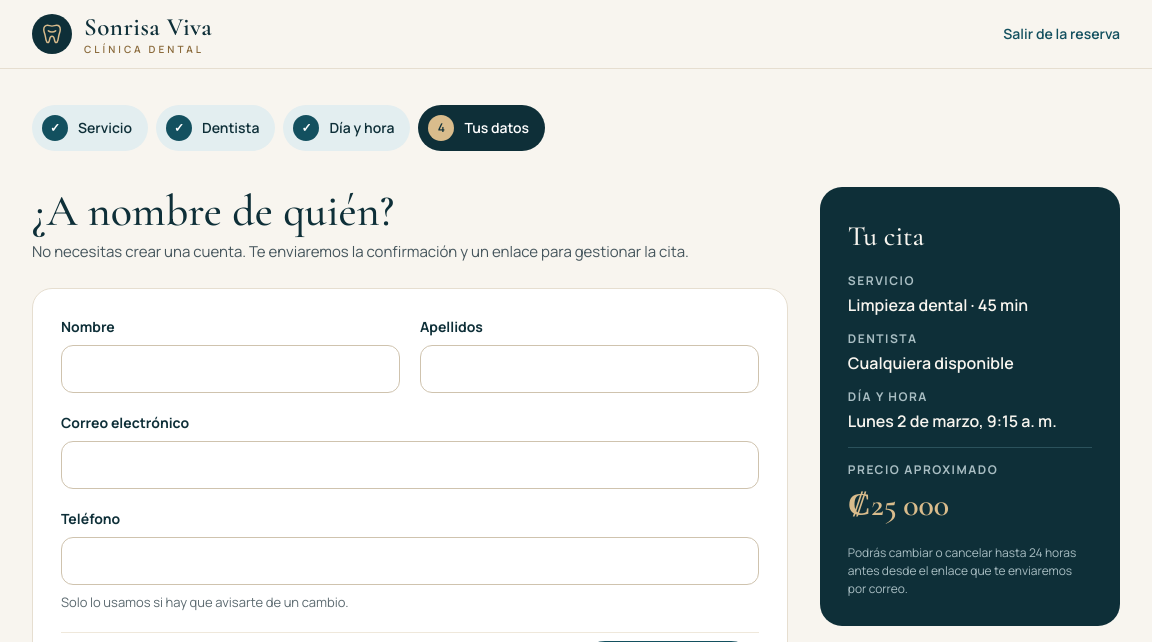
Test: Paso de datos y envío › valida correo y teléfono con mensajes en español
Type "carlos@" into the field labelled "Correo electrónico" at (410, 465), box [61,441,759,489]
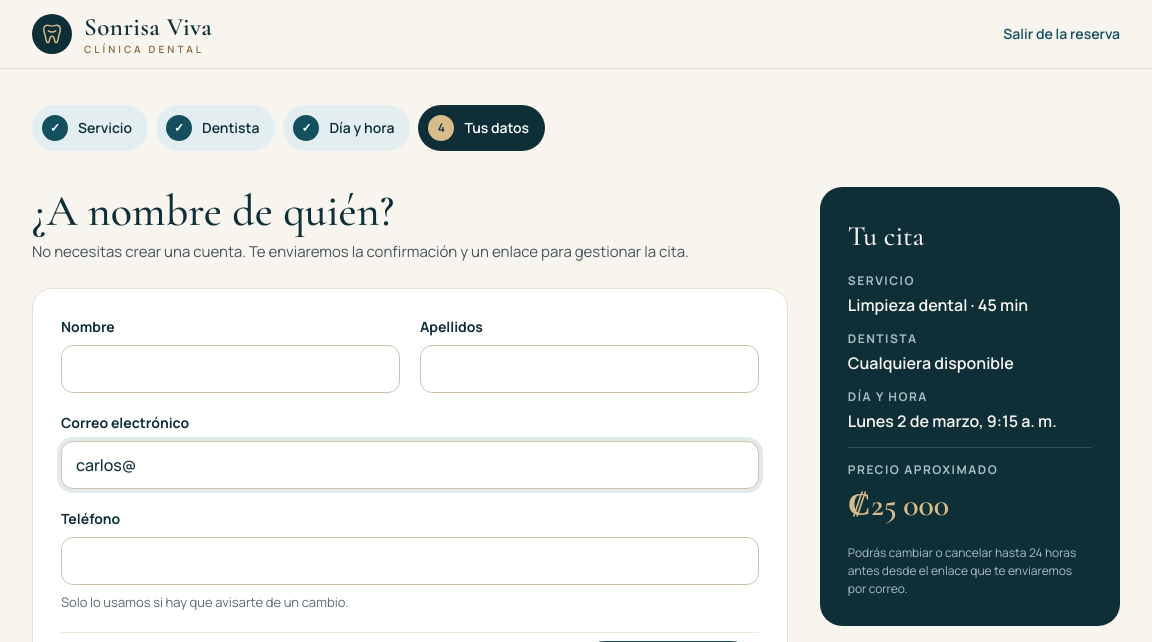
Type "abc" into the field labelled "Teléfono" at (410, 561), box [61,537,759,585]
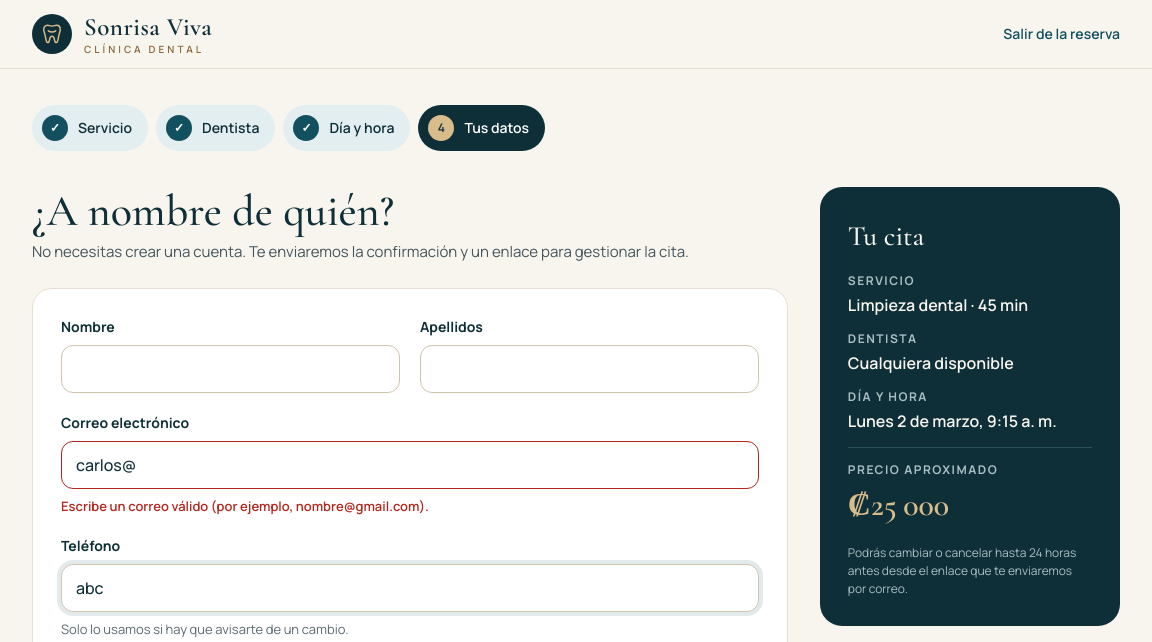
Press Tab
(page scrolled)
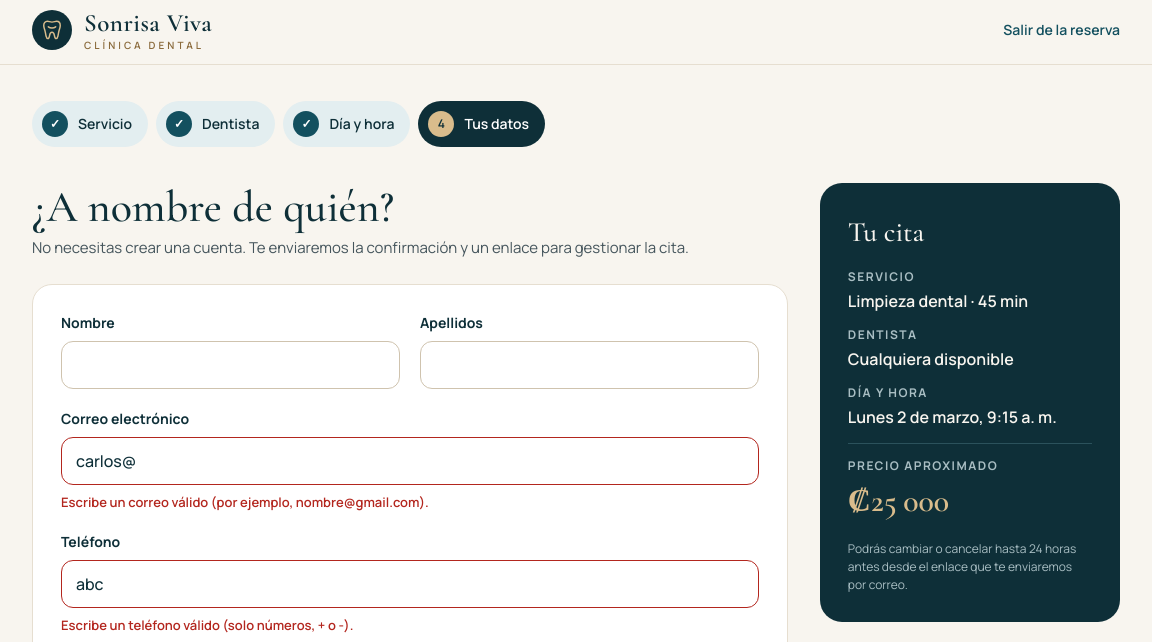
Expected: the text "Escribe un correo válido (por ejemplo, nombre@gmail.com)." is shown, [61,493,429,511]
Expected: the text "Escribe un teléfono válido (solo números, + o -)." is shown, [61,616,353,634]
